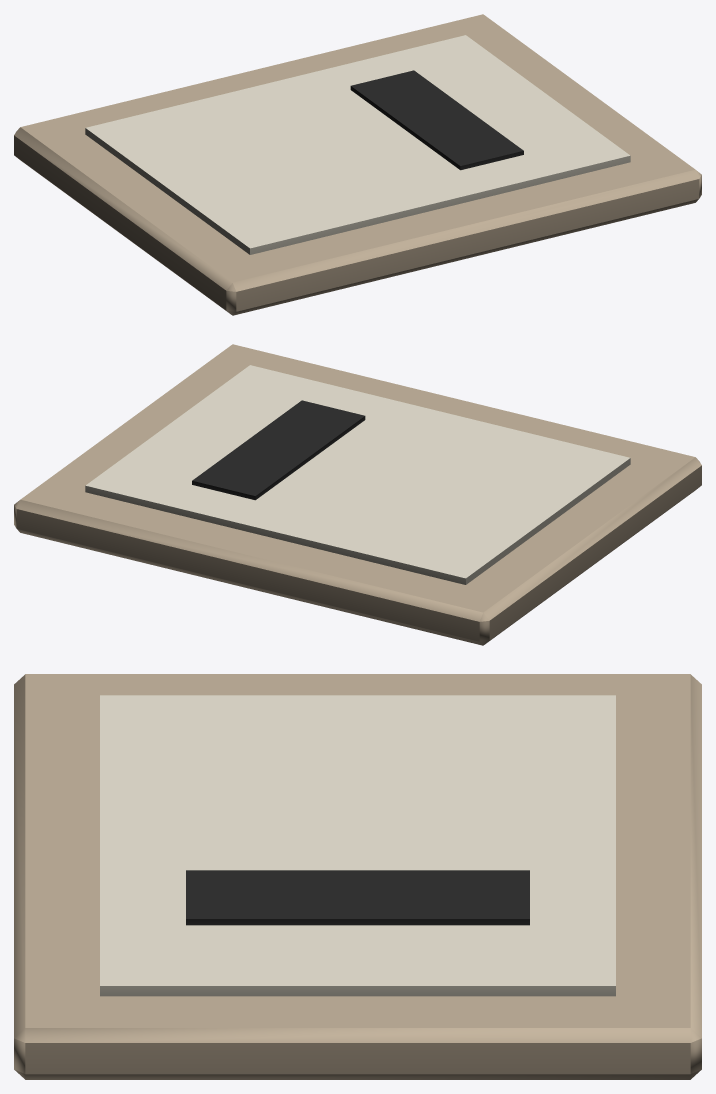
File: picture_frame.glb
The picture shows the model from 3 angles, top to bottom: view 1: azimuth 30°, elevation 25°; view 2: azimuth 150°, elevation 25°; view 3: azimuth 270°, elevation 25°; orthographic projection. The views are drawn at different scales.
Visible parts, largest first — view 1: static; view 2: static; view 3: static.
Part boxes in pixels (box(x1,y1,x2,y2)): static: box(14, 14, 701, 315); static: box(14, 344, 701, 645); static: box(14, 674, 701, 1079).
Size of the model in its own units: 0.3 by 0.0265 by 0.24.
